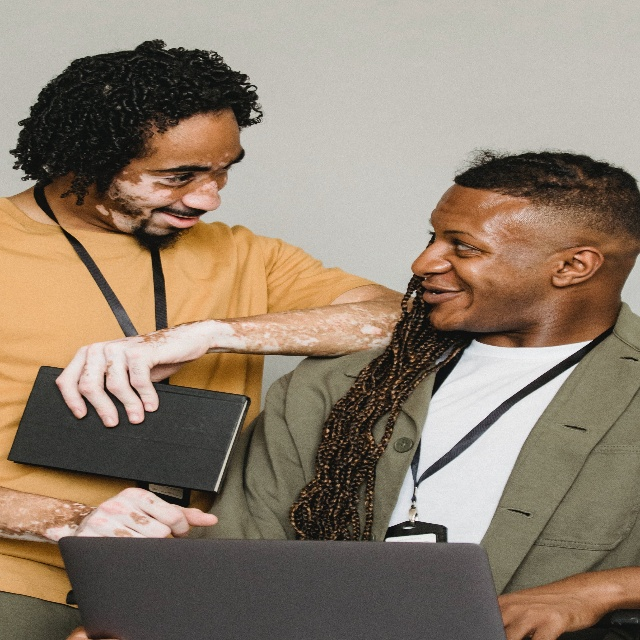Sin_guantes: (52, 331, 205, 417), (80, 490, 216, 543), (497, 575, 606, 640)
